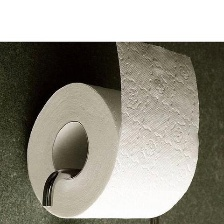tissue: (19, 41, 207, 224)
